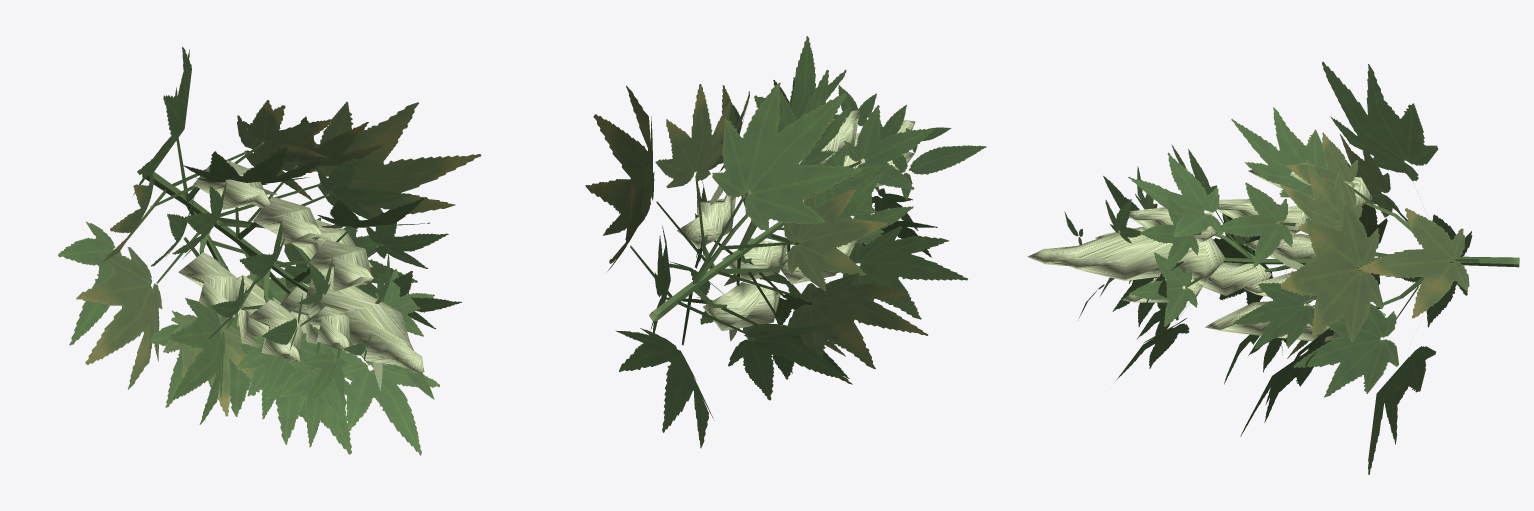
File: p_frosty_hybrid_ripe_c0_cards.obj
The picture shows the model from 3 angles, left to right: view 1: azimuth 30°, elevation 25°; view 2: azimuth 150°, elevation 25°; view 3: azimuth 270°, elevation 25°; orthographic projection. The views are drawn at different scales.
Bounding box in the file's own units: 1.58 × 1.63 × 1.65.
1 material, 1 textured.
